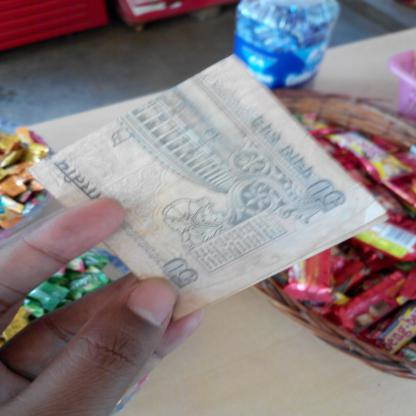Old50Back: (28, 54, 390, 322)
